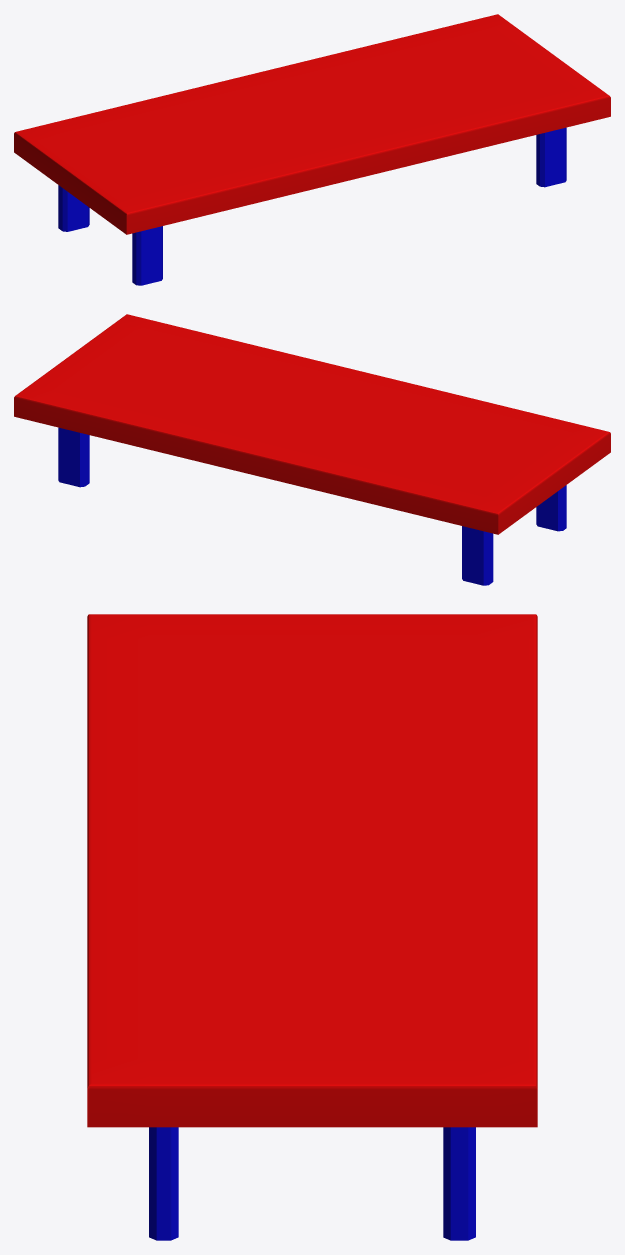
Rendered from CoffeeTable.fbx.
3 renders of one model, top to bottom at view 1: azimuth 30°, elevation 25°; view 2: azimuth 150°, elevation 25°; view 3: azimuth 270°, elevation 25°, orthographic. The views are drawn at different scales.
Visible parts, largest first — view 1: pCube1; view 2: pCube1; view 3: pCube1.
Part boxes in pixels (box(x1,y1,x2,y2)): pCube1: box(14, 14, 610, 285); pCube1: box(14, 314, 610, 585); pCube1: box(87, 614, 537, 1240).
Size of the model in its own units: 180 by 32.28 by 72.7.
